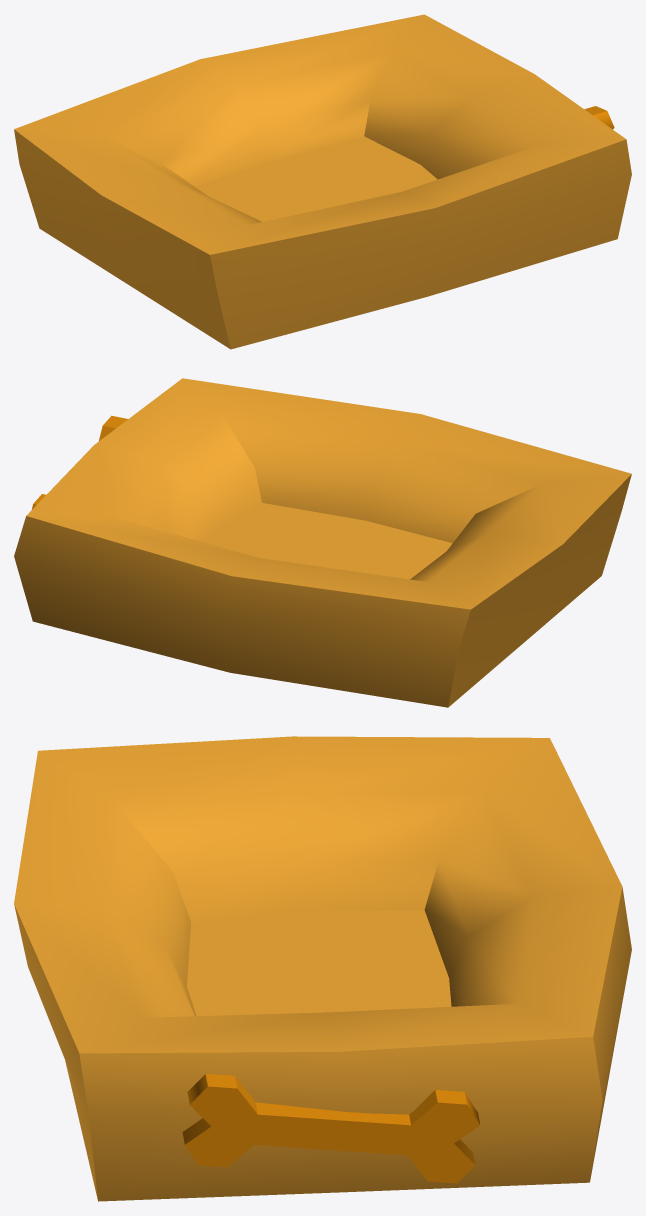
The picture shows the model from 3 angles, top to bottom: view 1: azimuth 30°, elevation 25°; view 2: azimuth 150°, elevation 25°; view 3: azimuth 270°, elevation 25°; orthographic projection. The views are drawn at different scales.
Visible parts, largest first — view 1: mr 4; view 2: mr 4; view 3: mr 4.
Part boxes in pixels (<box>): mr 4: <box>14,14,631,349</box>; mr 4: <box>14,378,631,707</box>; mr 4: <box>14,736,631,1201</box>.
Bounding box in the file's own units: 188 × 39.11 × 146.
